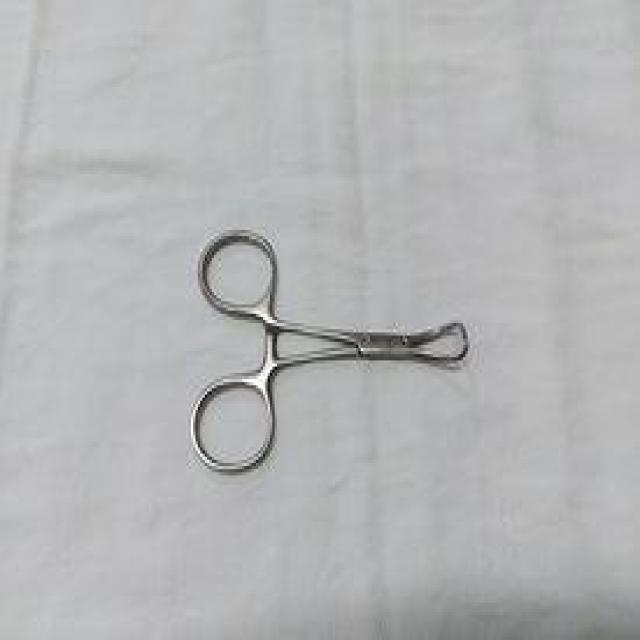Towel_clip: (186, 224, 475, 478)
